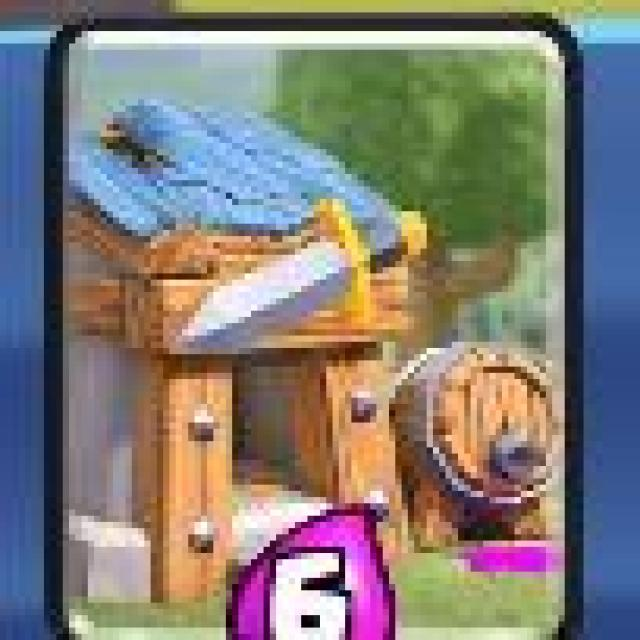Barbarian_Hut: (42, 13, 586, 640)
